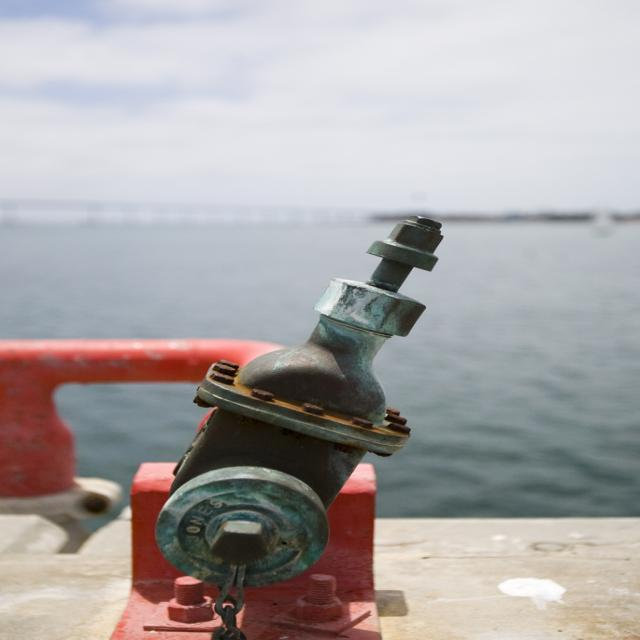fire_hydrant: (113, 217, 448, 639)
